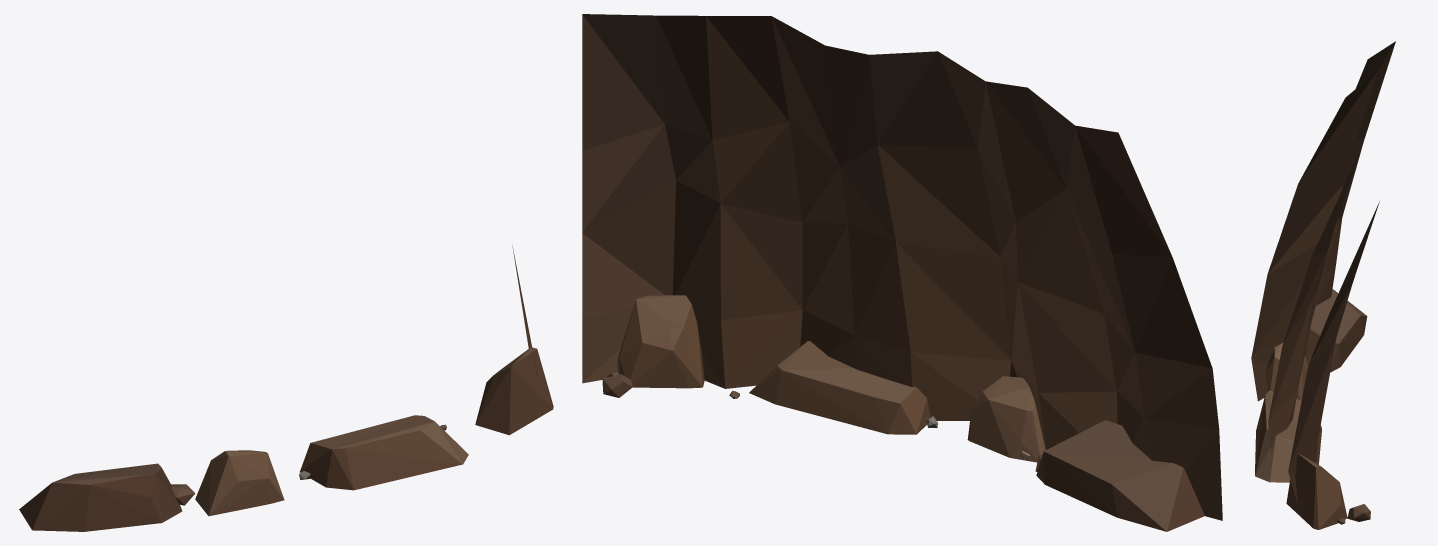
The model's file is tl_cave_main_wall_04_v01.glb.
3 renders of one model, left to right at view 1: azimuth 30°, elevation 25°; view 2: azimuth 150°, elevation 25°; view 3: azimuth 270°, elevation 25°, orthographic. The views are drawn at different scales.
Parts seen in each view (by area): view 1: tl_cave_main_wall_04_v01; view 2: tl_cave_main_wall_04_v01; view 3: tl_cave_main_wall_04_v01.
Part boxes in pixels (bbox=[...]): tl_cave_main_wall_04_v01: bbox=[19, 245, 553, 531]; tl_cave_main_wall_04_v01: bbox=[582, 14, 1222, 531]; tl_cave_main_wall_04_v01: bbox=[1251, 41, 1395, 529].
Size of the model in its own units: 23.68 by 15.09 by 7.6.
